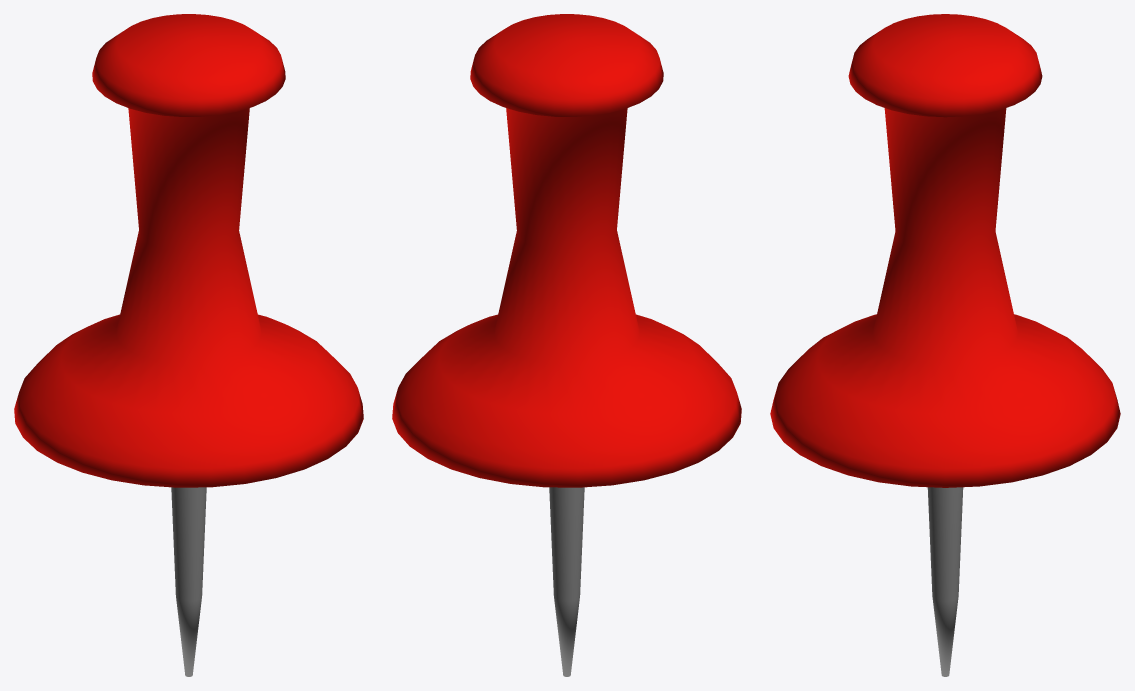
The model's file is 画鋲中ほそ.fbx.
3 renders of one model, left to right at view 1: azimuth 30°, elevation 25°; view 2: azimuth 150°, elevation 25°; view 3: azimuth 270°, elevation 25°, orthographic.
Parts seen in each view (by area): view 1: 円.002, 円.003; view 2: 円.002, 円.003; view 3: 円.002, 円.003.
Boxes of the visible parts, left/top/right/bottom form: 円.002: left=14, top=14, right=363, bottom=487; 円.003: left=171, top=487, right=206, bottom=676; 円.002: left=392, top=14, right=741, bottom=487; 円.003: left=549, top=487, right=584, bottom=676; 円.002: left=770, top=14, right=1120, bottom=487; 円.003: left=927, top=487, right=963, bottom=676.
Size of the model in its own units: 149 by 298 by 149.
